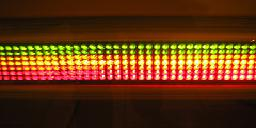LED: (1, 43, 254, 85)
